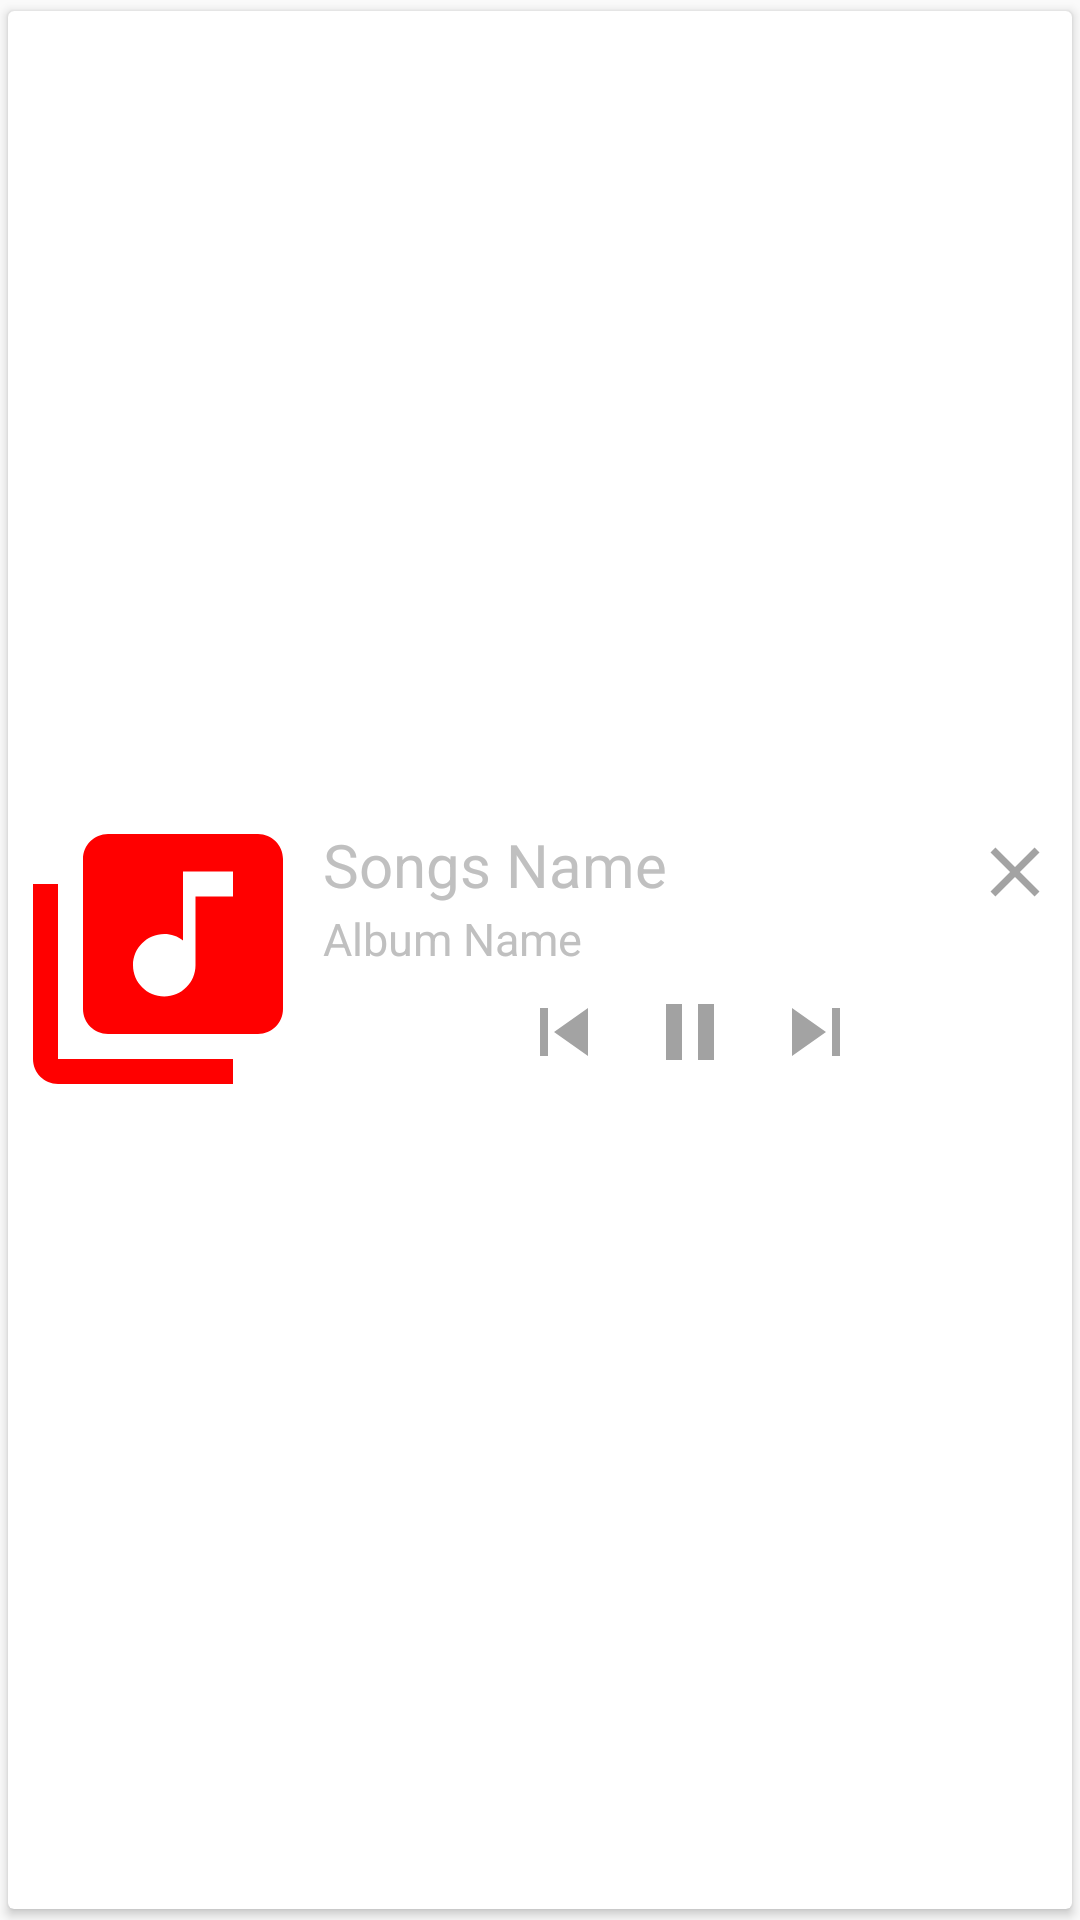

Screen size 1080px×1920px. Icon name, then its box in pixels as (x1, y1, x2, y2):
appicon: (33, 834, 283, 1084)
cross: (991, 848, 1039, 896)
next: (792, 1008, 840, 1056)
pause: (666, 1004, 714, 1060)
previous: (540, 1008, 588, 1056)
